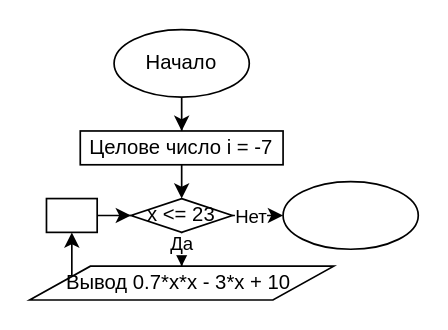
Image size: 448x330. Some labels were removed from this diagram. Each missing label, with the centre of its shape:
"++x" goes at [71,214].
"Конец" goes at [349,214].
